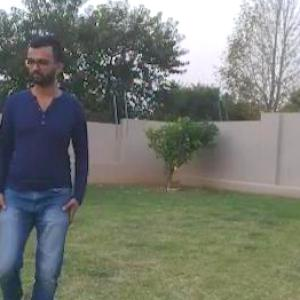follow: (0, 0, 96, 299)
